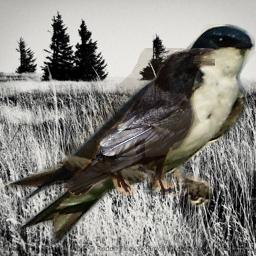Crow: (61, 48, 215, 196)
Swallow: (1, 24, 255, 245)
